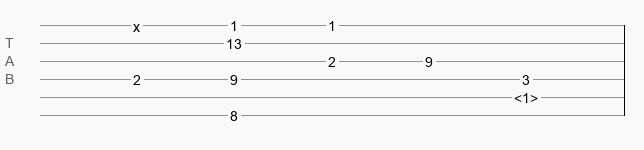1: (230, 18, 238, 28), (328, 18, 336, 28)
13: (226, 36, 242, 46)
2: (133, 72, 141, 82), (328, 54, 336, 64)
3: (522, 72, 530, 82)
8: (230, 108, 238, 118)
9: (230, 72, 238, 82), (425, 54, 433, 64)
harmonic: (514, 90, 538, 100)
x: (133, 19, 140, 27)
